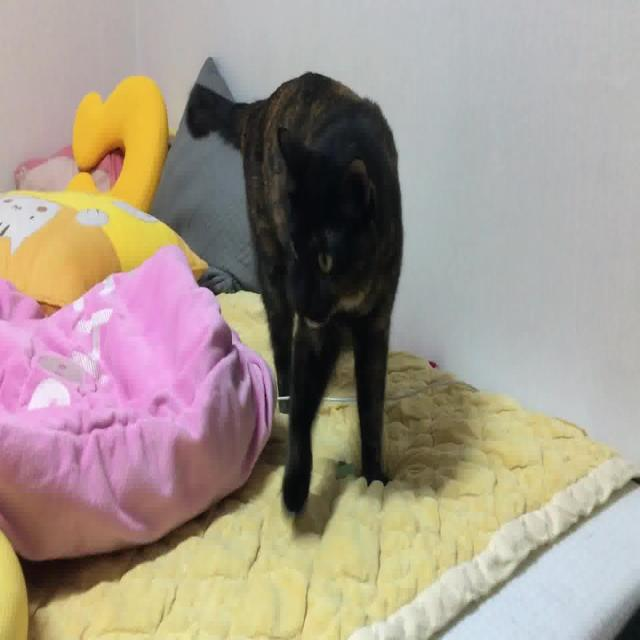cat: (183, 71, 410, 524)
